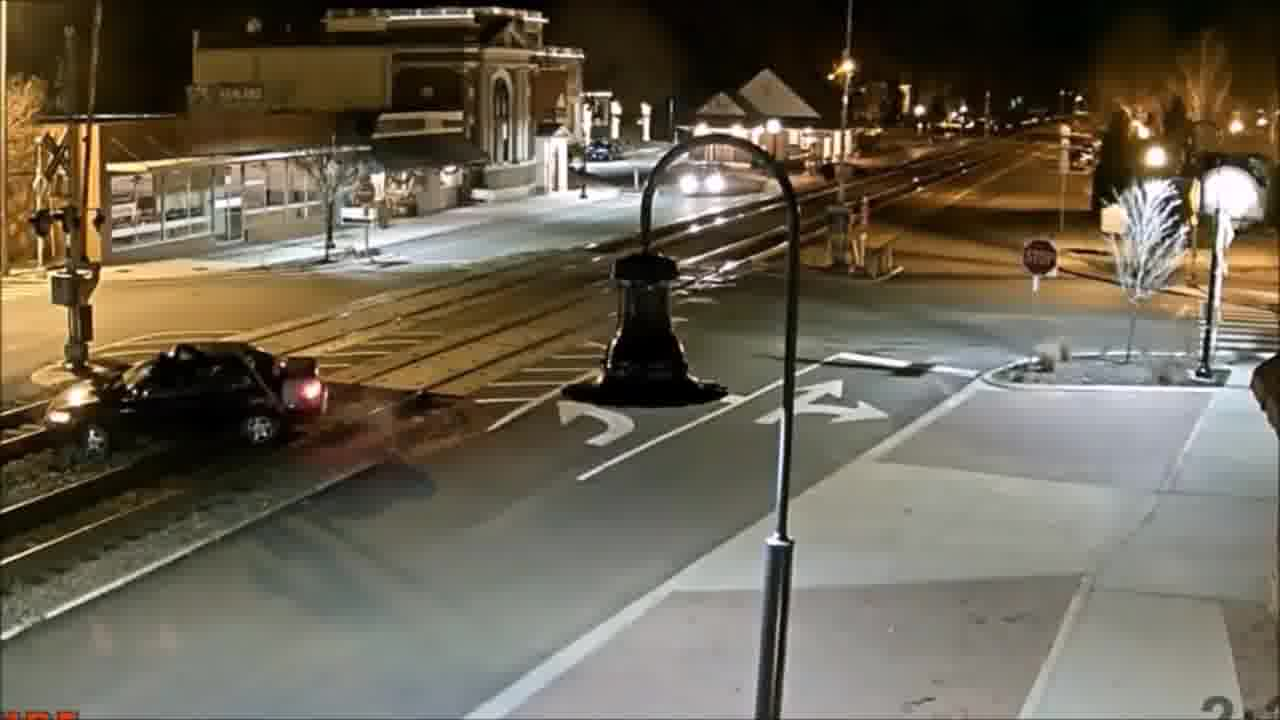crossing railway track: (40, 325, 324, 470)
